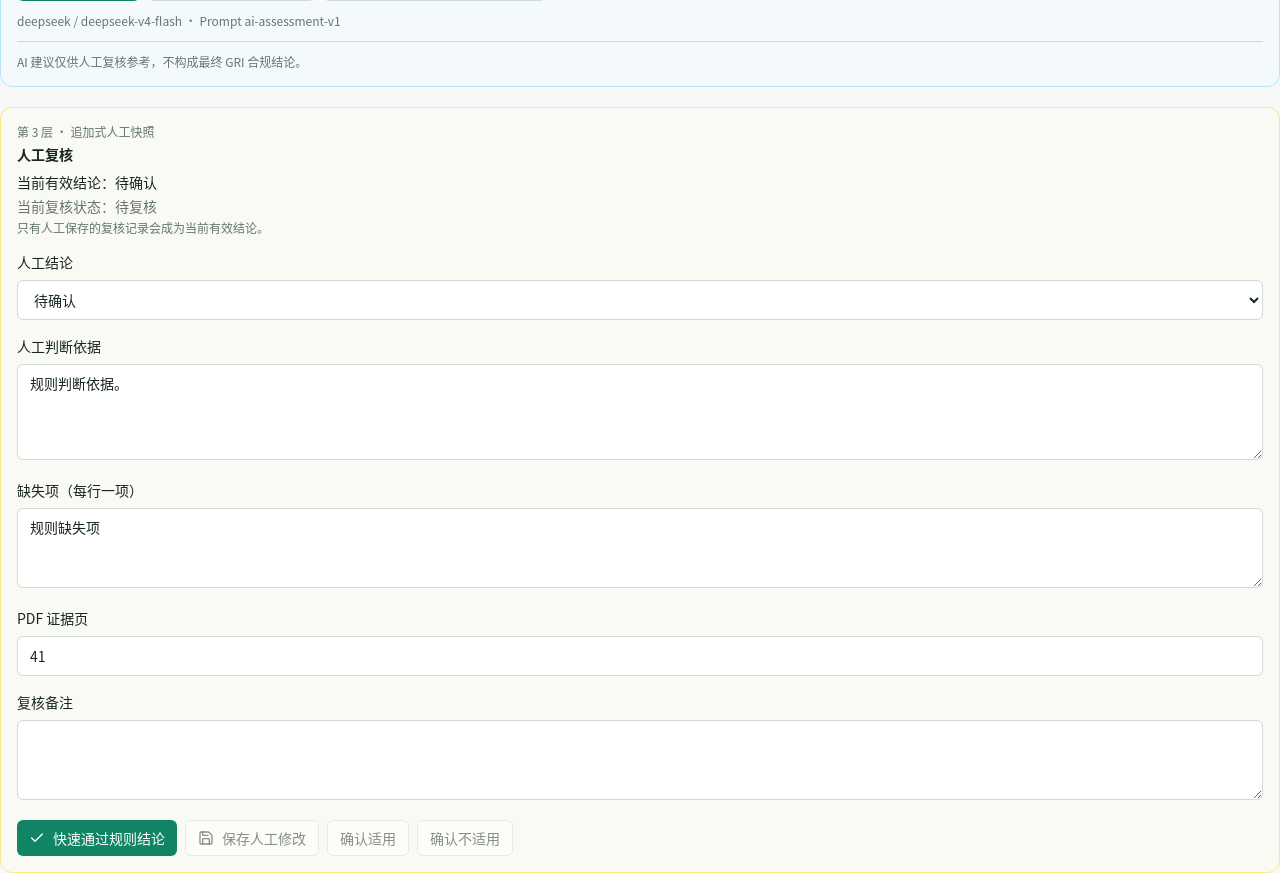
Test: ReviewEditor › quick-approves the current result against the latest snapshot
(page scrolled)
Click the button "快速通过规则结论" at (97, 838), box x1=17 y1=820 x2=177 y2=856
(page scrolled)
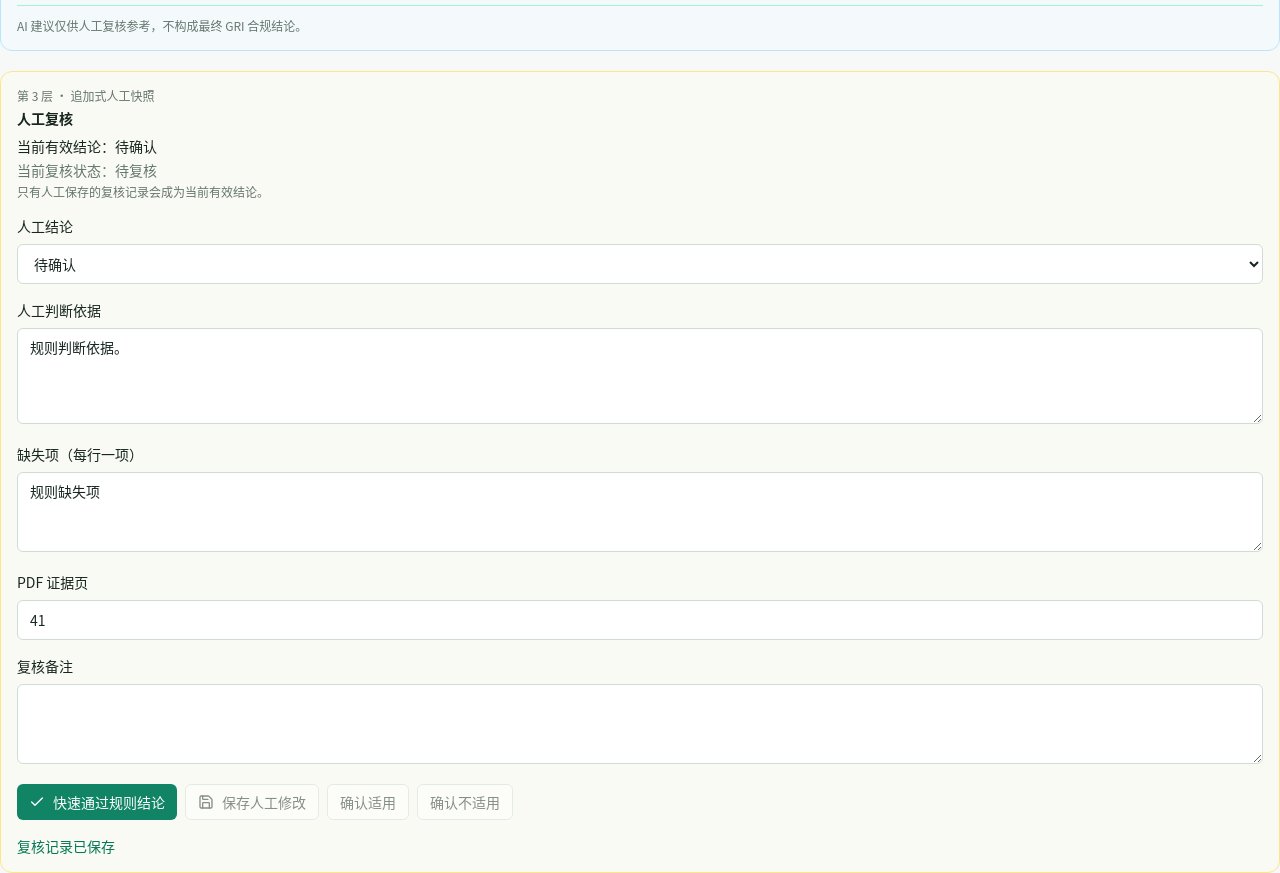
Expected: the text "复核记录已保存" is shown, x1=17 y1=836 x2=115 y2=856
